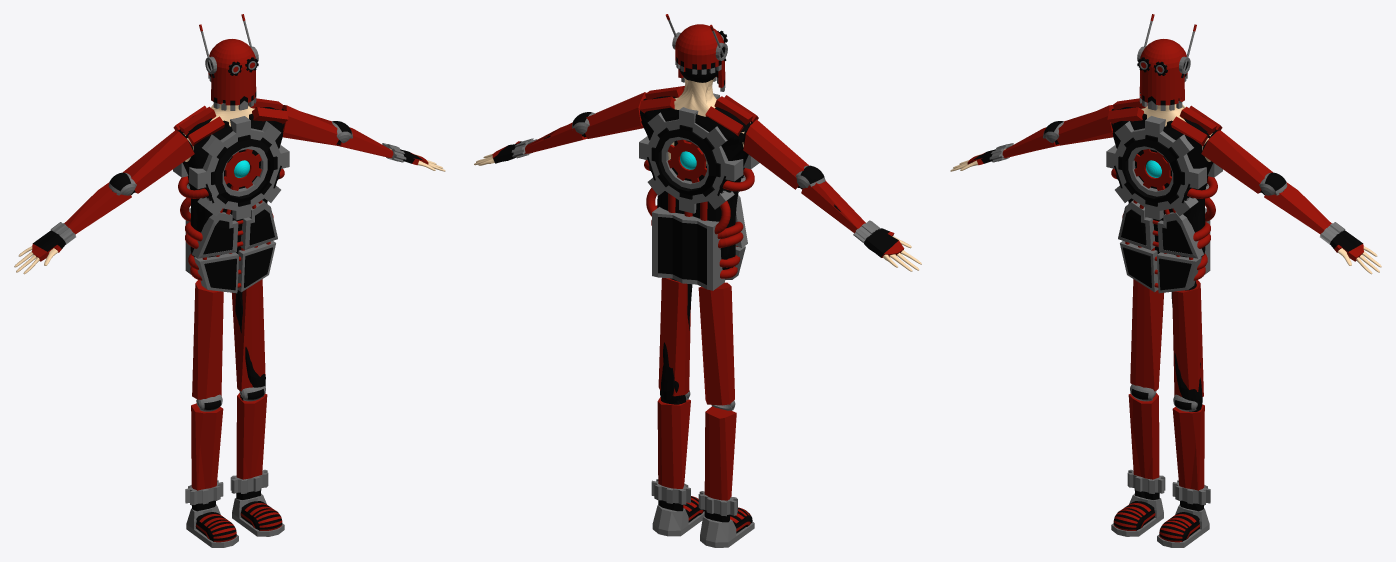
Rendered from soldier.fbx.
The picture shows the model from 3 angles, left to right: view 1: azimuth 30°, elevation 25°; view 2: azimuth 150°, elevation 25°; view 3: azimuth 330°, elevation 25°; orthographic projection. The views are drawn at different scales.
Parts seen in each view (by area): view 1: Cube.040, Cube.041, Cylinder.032, Cube.029, helmet, Cube.030, Sphere.023, Cylinder.034, Cube.035, Cube.026, Cube.033, Cube.039 (+11 smaller); view 2: Cube.040, Cube.041, Cylinder.029, Cube.029, Sphere.023, Cube.032, Cube.030, Cube.039, Cube.028, helmet, Cylinder.027, Cylinder.033 (+9 smaller); view 3: Cube.040, Cube.041, Cylinder.032, Cube.029, helmet, Cube.030, Sphere.023, Cylinder.034, Cube.035, Cube.026, Cube.033, Cube.039 (+11 smaller).
Boxes of the visible parts, left/top/right/bottom form: Cube.040: left=192, top=279, right=265, bottom=399; Cube.041: left=191, top=393, right=267, bottom=490; Cylinder.032: left=189, top=116, right=289, bottom=220; Cube.029: left=123, top=105, right=338, bottom=193; helmet: left=208, top=39, right=256, bottom=105; Cube.030: left=64, top=127, right=393, bottom=234; Sphere.023: left=178, top=107, right=283, bottom=257; Cylinder.034: left=211, top=135, right=277, bottom=206; Cube.035: left=204, top=247, right=272, bottom=290; Cube.026: left=192, top=200, right=277, bottom=258; Cube.033: left=203, top=209, right=274, bottom=254; Cube.039: left=186, top=493, right=284, bottom=547; Cube.040: left=658, top=278, right=734, bottom=405; Cube.041: left=657, top=397, right=736, bottom=500; Cylinder.029: left=639, top=107, right=743, bottom=213; Cube.029: left=585, top=92, right=808, bottom=189; Sphere.023: left=641, top=96, right=752, bottom=269; Cube.032: left=658, top=217, right=706, bottom=284; Cube.030: left=524, top=122, right=865, bottom=233; Cube.039: left=652, top=505, right=754, bottom=547; Cube.028: left=652, top=207, right=724, bottom=290; helmet: left=675, top=24, right=725, bottom=87; Cylinder.027: left=651, top=125, right=720, bottom=199; Cylinder.033: left=651, top=479, right=737, bottom=516; Cube.040: left=1130, top=279, right=1203, bottom=396; Cube.041: left=1128, top=393, right=1204, bottom=490; Cylinder.032: left=1106, top=116, right=1206, bottom=220; Cube.029: left=1057, top=105, right=1272, bottom=193; helmet: left=1139, top=39, right=1187, bottom=105; Cube.030: left=1002, top=127, right=1331, bottom=234; Sphere.023: left=1112, top=107, right=1217, bottom=257; Cylinder.034: left=1118, top=135, right=1184, bottom=206; Cube.035: left=1123, top=247, right=1191, bottom=290; Cube.026: left=1118, top=200, right=1203, bottom=258; Cube.033: left=1121, top=209, right=1192, bottom=254; Cube.039: left=1111, top=493, right=1209, bottom=547.
Bounding box in the file's own units: 203 × 228 × 29.91.
